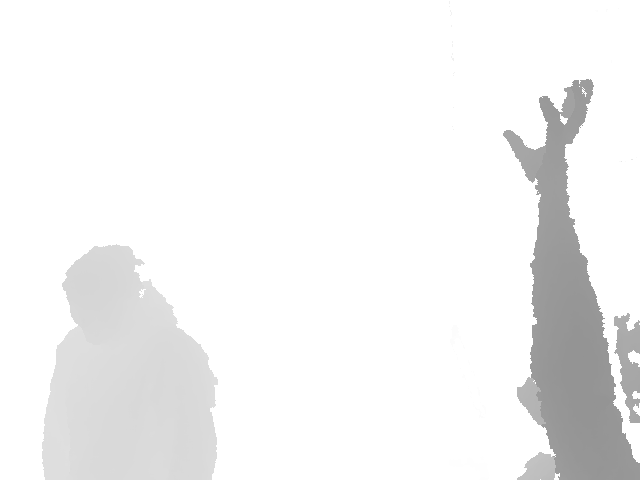hand: (503, 78, 594, 197)
head: (61, 242, 145, 340)
person: (502, 78, 640, 480), (40, 241, 219, 480)
